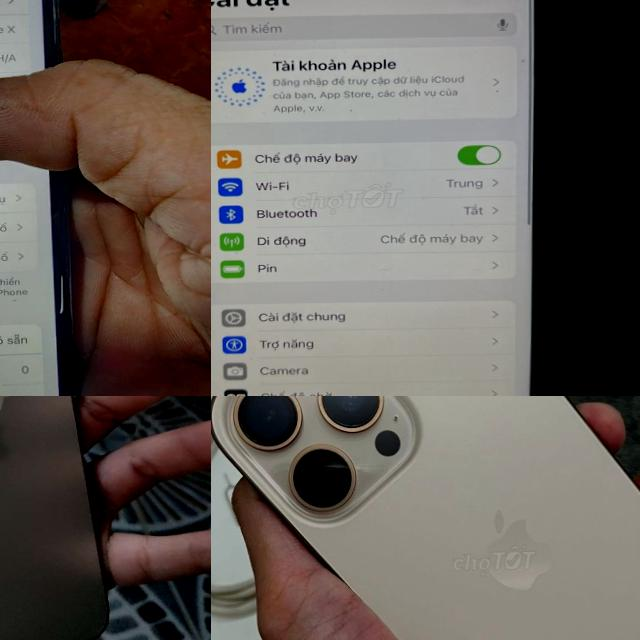scratch: (62, 184, 78, 340), (44, 0, 68, 52)
